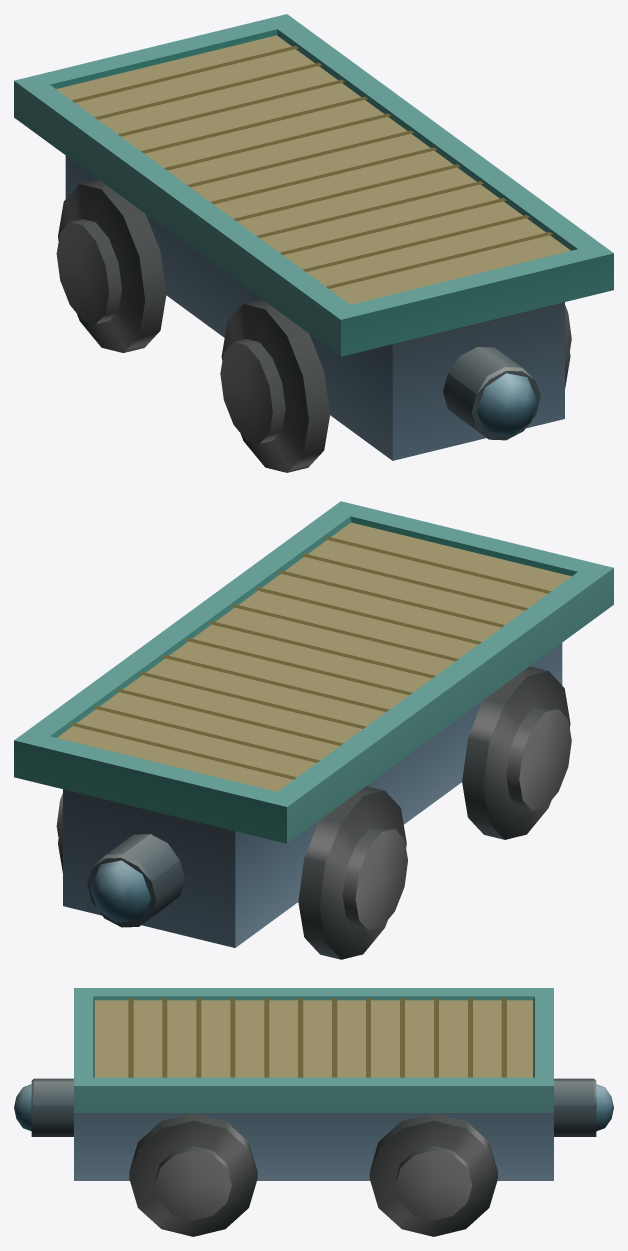
File: Carriage_Flat.fbx
The picture shows the model from 3 angles, top to bottom: view 1: azimuth 30°, elevation 25°; view 2: azimuth 150°, elevation 25°; view 3: azimuth 270°, elevation 25°; orthographic projection. The views are drawn at different scales.
Visible parts, largest first — view 1: Carriage_Flat; view 2: Carriage_Flat; view 3: Carriage_Flat.
Part boxes in pixels (bbox=[...]): Carriage_Flat: bbox=[14, 14, 613, 472]; Carriage_Flat: bbox=[14, 501, 613, 959]; Carriage_Flat: bbox=[14, 988, 613, 1236].
Size of the model in its own units: 276 by 184 by 653.
